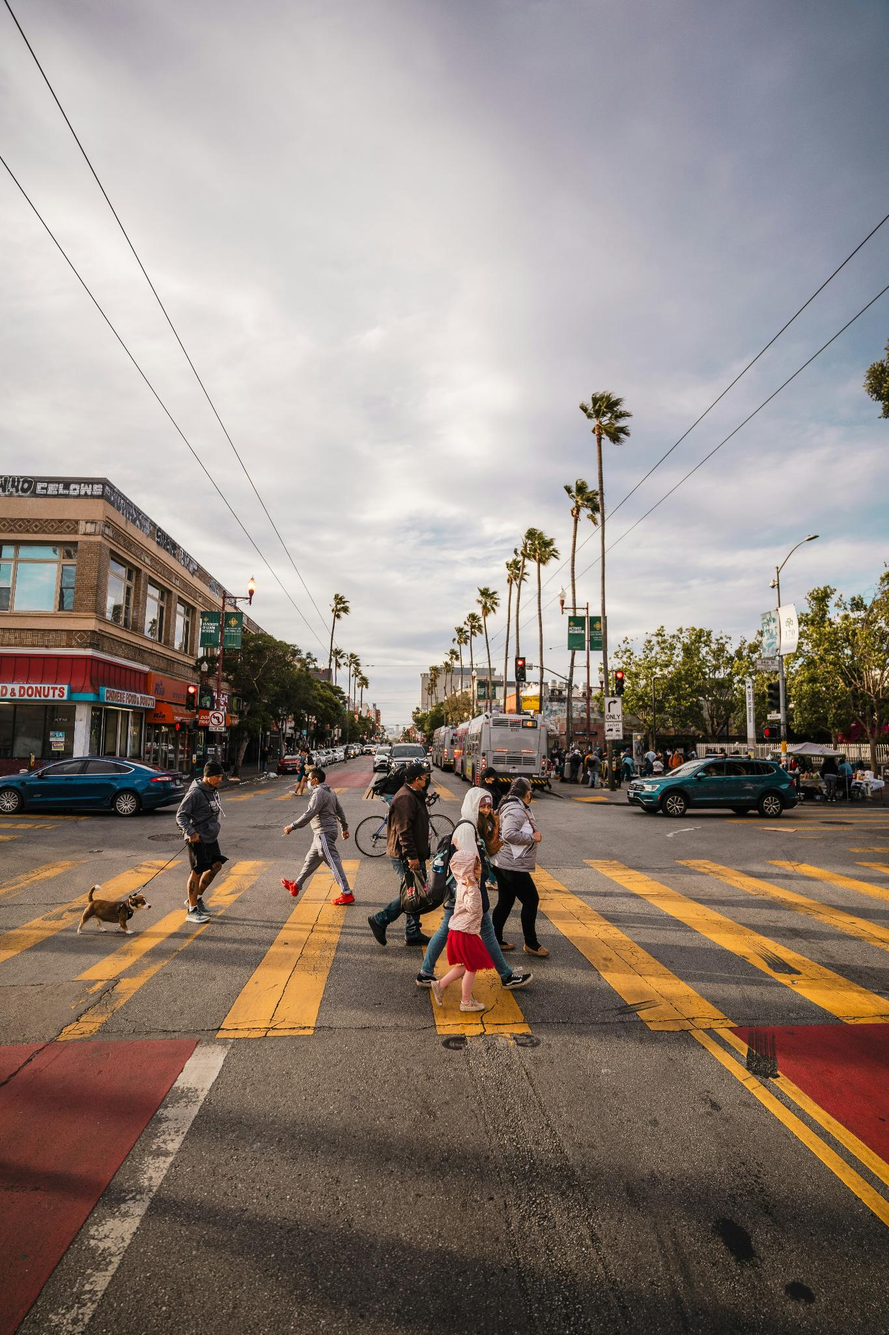car: (636, 754, 799, 818), (2, 758, 178, 816), (100, 762, 183, 811), (367, 753, 433, 803), (853, 767, 887, 800)
pedestrian: (421, 820, 515, 1004), (369, 768, 436, 949), (282, 767, 355, 909), (491, 776, 545, 958), (178, 768, 226, 921), (296, 742, 310, 796), (586, 752, 598, 786)
